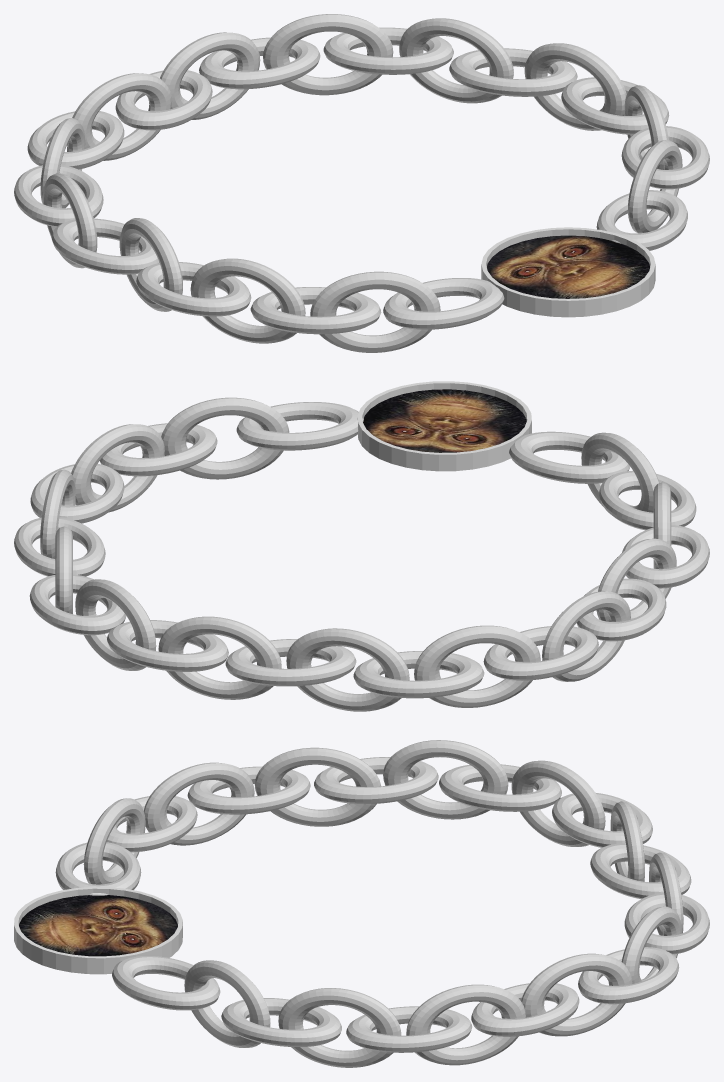
The model's file is chain.fbx.
The picture shows the model from 3 angles, top to bottom: view 1: azimuth 30°, elevation 25°; view 2: azimuth 150°, elevation 25°; view 3: azimuth 270°, elevation 25°; orthographic projection. The views are drawn at different scales.
Parts seen in each view (by area): view 1: Cylinder, Torus.014, Torus.001, Torus.002, Torus.017, Torus, Torus.022, Torus.003, Torus.013, Torus.023, Torus.016, Torus.006 (+14 smaller); view 2: Cylinder, Torus.018, Torus.006, Torus.009, Torus.013, Torus.024, Torus, Torus.007, Torus.012, Torus.021, Torus.010, Torus.015 (+14 smaller); view 3: Cylinder, Torus.005, Torus.010, Torus.021, Torus.022, Torus.002, Torus.017, Torus.009, Torus.024, Torus.020, Torus.019, Torus.018 (+14 smaller).
Boxes of the visible parts, box(x1,y1,x2,y2) form: Cylinder: box(481, 227, 655, 317); Torus.014: box(263, 14, 393, 95); Torus.001: box(310, 271, 440, 352); Torus.002: box(190, 258, 305, 343); Torus.017: box(399, 18, 513, 103); Torus: box(383, 278, 504, 329); Torus.022: box(524, 43, 626, 130); Torus.003: box(250, 287, 381, 334); Torus.013: box(160, 32, 260, 119); Torus.023: box(449, 48, 577, 96); Torus.016: box(323, 27, 453, 74); Torus.006: box(72, 73, 172, 160); Cylinder: box(357, 381, 531, 471); Torus.018: box(161, 397, 289, 479); Torus.006: box(286, 628, 409, 711); Torus.009: box(414, 625, 540, 707); Torus.013: box(158, 616, 281, 699); Torus.024: box(236, 402, 363, 450); Torus: box(509, 431, 630, 483); Torus.007: box(353, 651, 484, 698); Torus.012: box(225, 639, 356, 686); Torus.021: box(71, 424, 164, 512); Torus.010: box(542, 591, 630, 681); Torus.015: box(107, 620, 228, 671); Cylinder: box(14, 887, 182, 974); Torus.005: box(254, 747, 380, 826); Torus.010: box(383, 740, 508, 819); Torus.021: box(278, 988, 401, 1067); Torus.022: box(406, 984, 525, 1065); Torus.002: box(143, 762, 254, 845); Torus.017: box(521, 953, 632, 1036); Torus.009: box(511, 760, 605, 846); Torus.024: box(112, 956, 220, 1010); Torus.020: box(346, 1006, 472, 1052); Torus.019: box(221, 998, 341, 1046); Torus.018: box(184, 960, 270, 1047).
Bounding box in the file's own units: 1003 × 127 × 1031.
